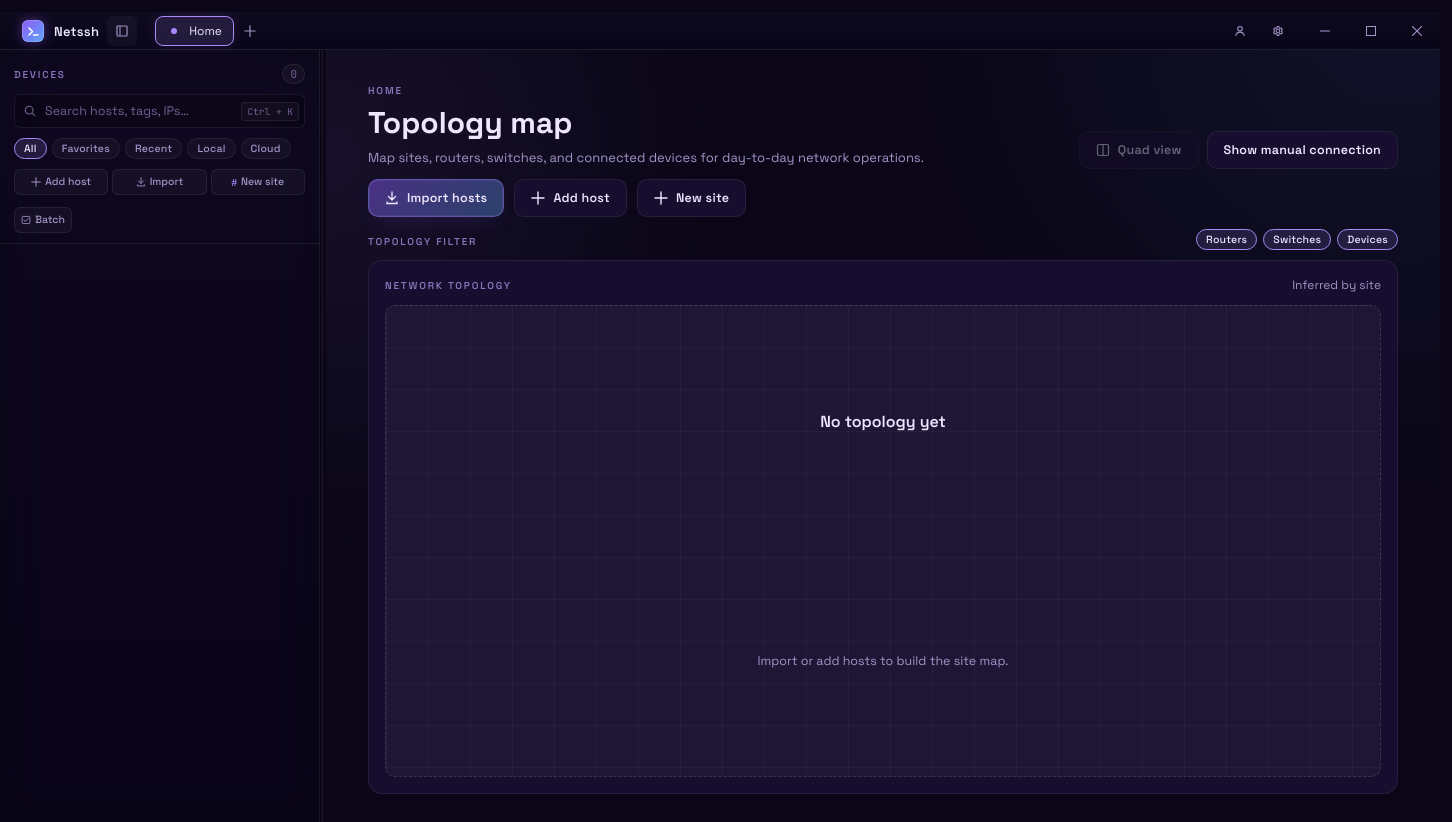
Test: 2. TitleBar › new tab button creates additional tab
The image size is (1452, 822).
Click the button with class "tab-new" at (250, 31), box [238, 19, 262, 43]
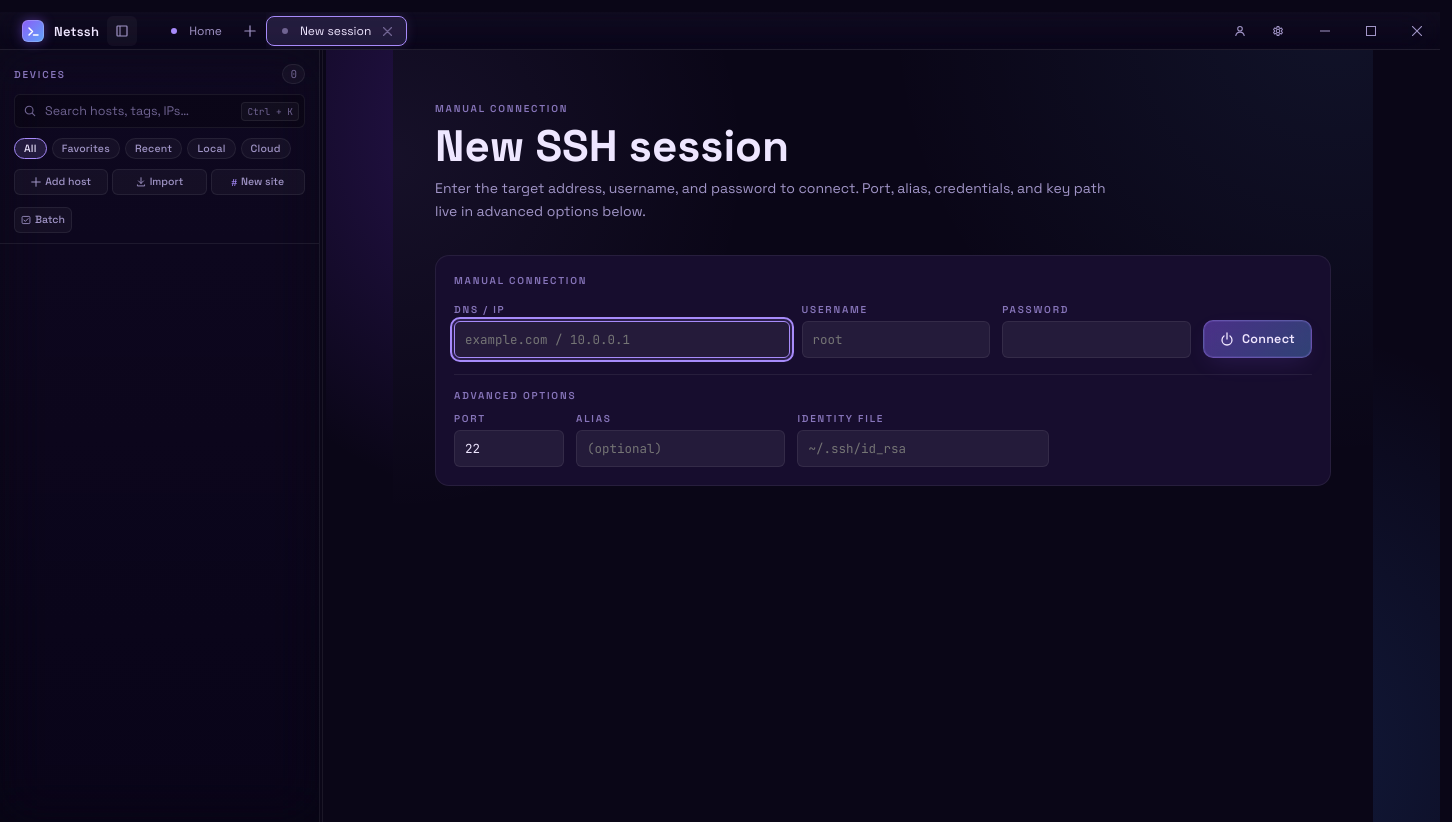
Expected: the number of elements with class "tab" is 2, [171, 23, 222, 39]; [266, 16, 407, 46]
